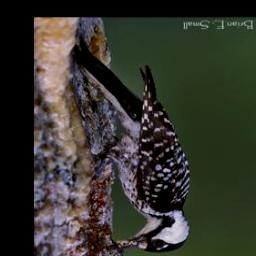Woodpecker: (75, 39, 193, 254)
